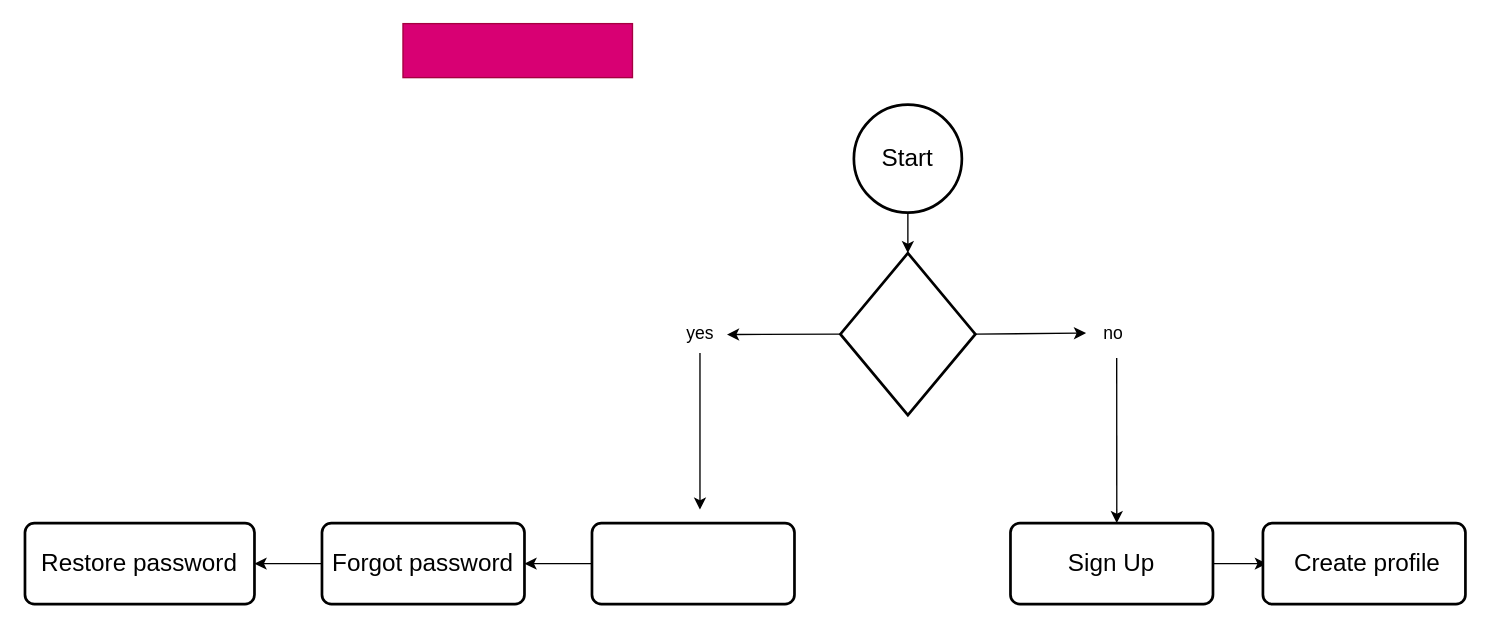
The diagram is 1489 pixels wide and 629 high, and some of its shapes have lost their labels. The centre of each missing label's shape, as x and y in pixels:
Are user a member?: [907,333]
Creator start: [517,50]
Sign In: [692,563]
